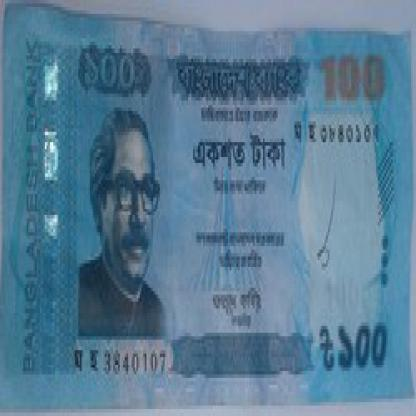one hundred taka: (321, 38, 391, 111), (80, 35, 143, 104), (336, 319, 398, 381)
